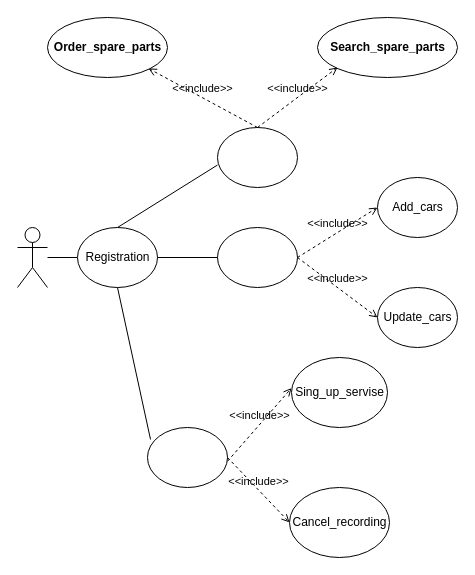
The diagram is 475 pixels wide and 575 high, and some of its shapes have lost their labels. The centre of each missing label's shape, as x and y in pixels:
Cars: (x=257, y=257)
Servise: (x=187, y=457)
Spare_parts: (x=257, y=157)
User: (x=32, y=257)
